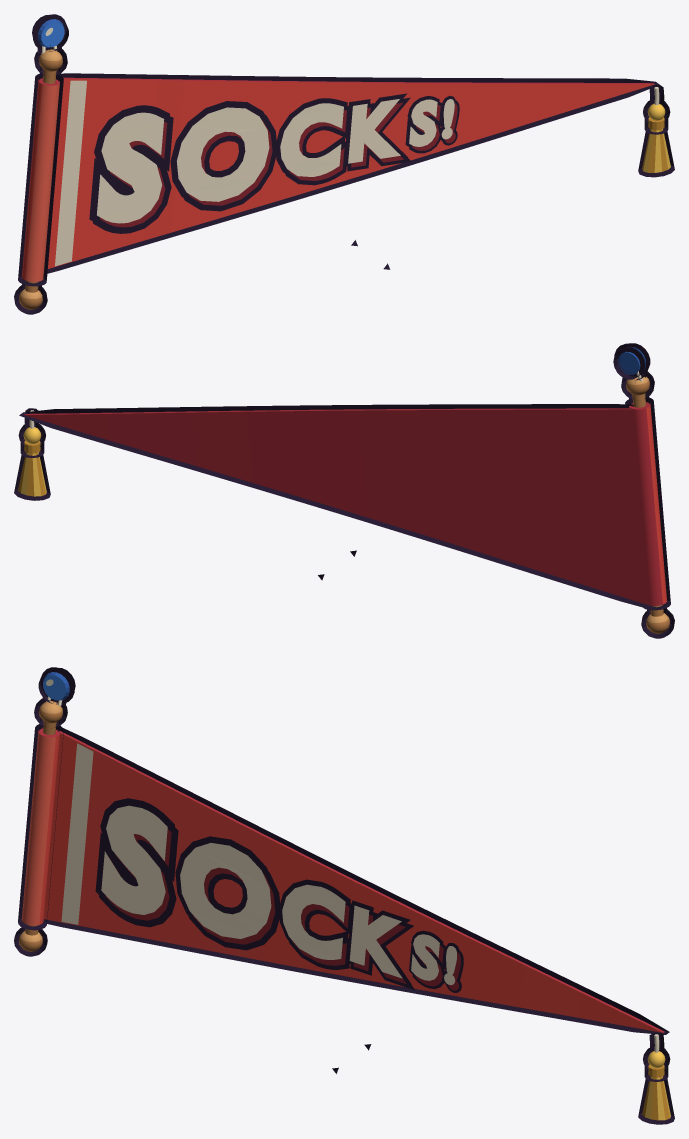
Rendered from Pennant.glb.
3 renders of one model, top to bottom at view 1: azimuth 30°, elevation 25°; view 2: azimuth 150°, elevation 25°; view 3: azimuth 330°, elevation 25°, orthographic.
Visible parts, largest first — view 1: Pennant, Pennant_Outline; view 2: Pennant, Pennant_Outline; view 3: Pennant, Pennant_Outline.
Part boxes in pixels (<box>): Pennant: <box>19,19,670,309</box>; Pennant_Outline: <box>14,14,674,314</box>; Pennant: <box>18,347,670,633</box>; Pennant_Outline: <box>14,343,674,638</box>; Pennant: <box>18,672,670,1120</box>; Pennant_Outline: <box>14,667,674,1124</box>.
Bounding box in the file's own units: 11.75 × 5.27 × 1.1.
Materials: 1 (1 with a texture image).
